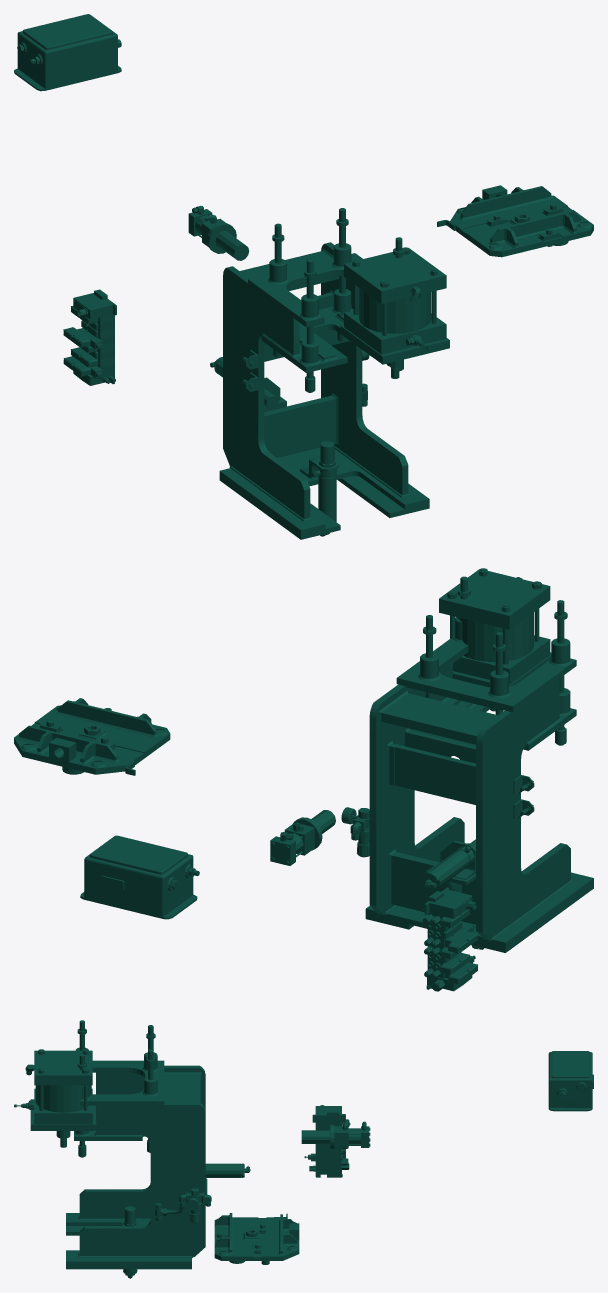
The model's file is Exlp.FBX.
3 views of the same model, one above another, from view 1: azimuth 30°, elevation 25°; view 2: azimuth 150°, elevation 25°; view 3: azimuth 270°, elevation 25° (orthographic). The views are drawn at different scales.
Visible parts, largest first — view 1: PartA, PartB, PartC, PartD, PartF, PartE; view 2: PartA, PartB, PartC, PartD, PartF, PartE; view 3: PartA, PartB, PartC, PartD, PartF, PartE.
Part boxes in pixels (<box>): PartA: <box>210,208,429,539</box>; PartB: <box>340,247,449,378</box>; PartC: <box>437,185,593,257</box>; PartD: <box>14,14,121,91</box>; PartF: <box>63,289,116,385</box>; PartE: <box>188,206,249,260</box>; PartA: <box>341,576,593,952</box>; PartB: <box>439,568,551,711</box>; PartC: <box>14,698,170,775</box>; PartD: <box>80,835,199,919</box>; PartF: <box>422,887,477,991</box>; PartE: <box>270,810,335,865</box>; PartA: <box>66,1020,250,1278</box>; PartB: <box>14,1049,96,1147</box>; PartC: <box>214,1213,299,1264</box>; PartD: <box>548,1051,593,1111</box>; PartF: <box>304,1105,349,1177</box>; PartE: <box>301,1121,370,1149</box>.
Size of the model in its own units: 187 by 269 by 122.
